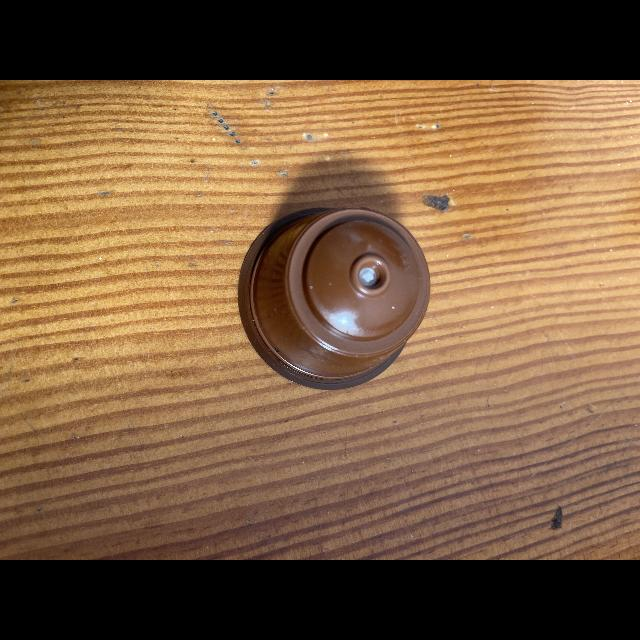intact_capsule: (225, 190, 443, 404)
